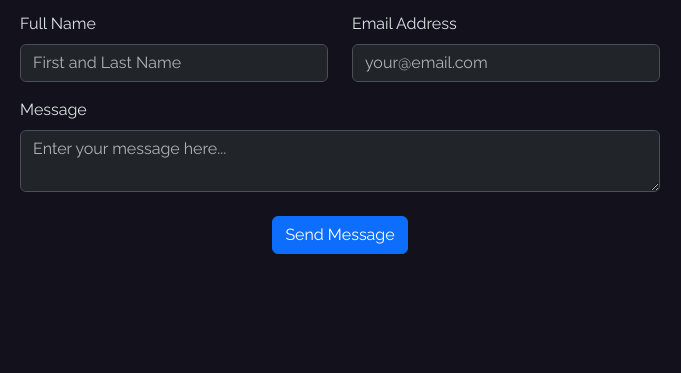
Test: ContactForm › Should display alert message on caught errors
The image size is (681, 373).
Type "John Doe" into the field with placeholder "First and Last Name" at (174, 63), box [20,44,328,82]
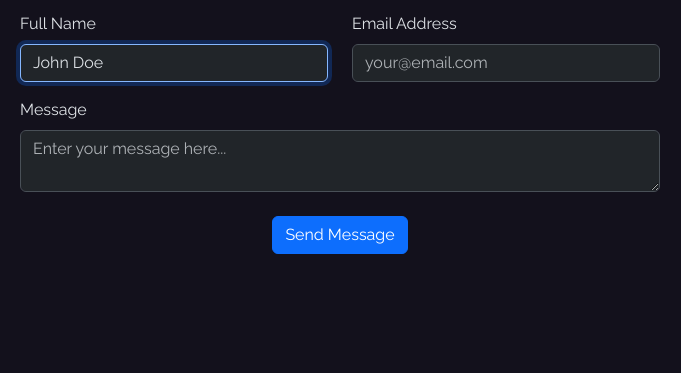
Type "john.doe@example.com" into the field with placeholder "your@email.com" at (506, 63), box [352,44,660,82]
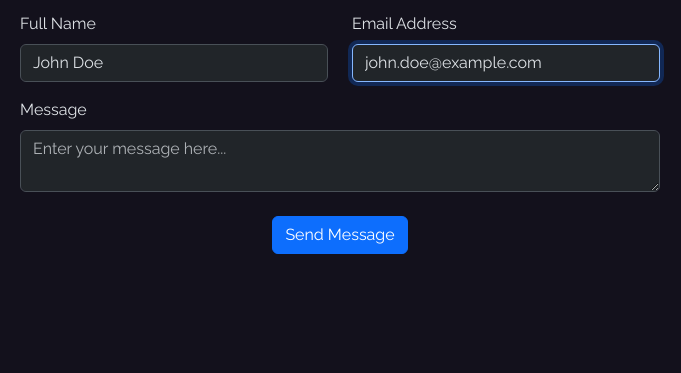
Type "I love this app!" into the text box with placeholder "Enter your message here..." at (340, 161), box [20,130,660,192]
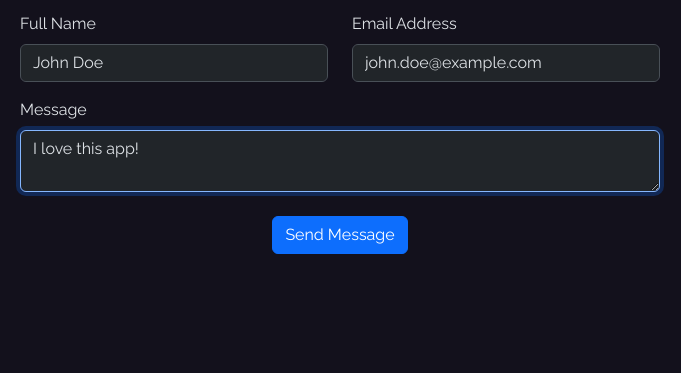
Click the button "Send Message" at (340, 235), box [272,216,408,254]
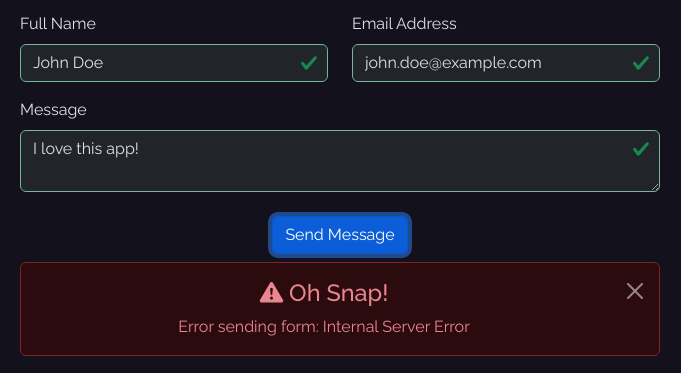
expect the message "Oh Snap! Error sending form: Internal Server Error" is shown: met, box [20,262,660,356]
